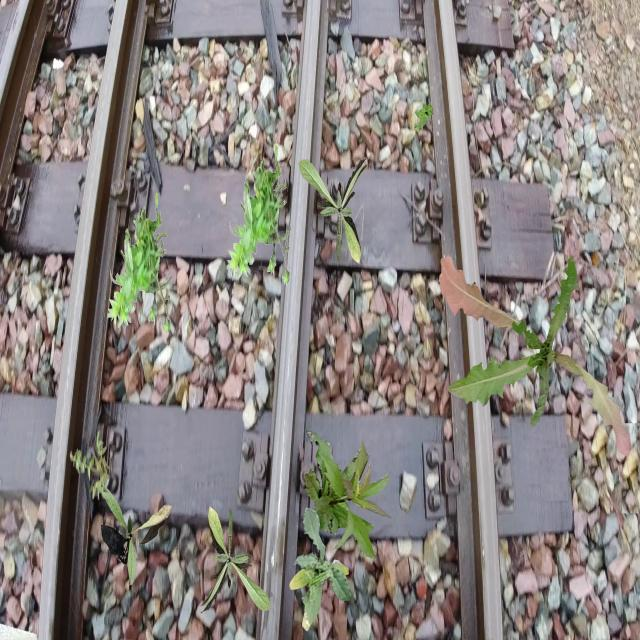Plant: (439, 254, 632, 456), (304, 430, 392, 560), (227, 144, 292, 288), (107, 193, 172, 336), (289, 507, 352, 632), (298, 157, 370, 265), (199, 506, 270, 614), (101, 486, 172, 586), (69, 429, 110, 501), (414, 100, 434, 132)
